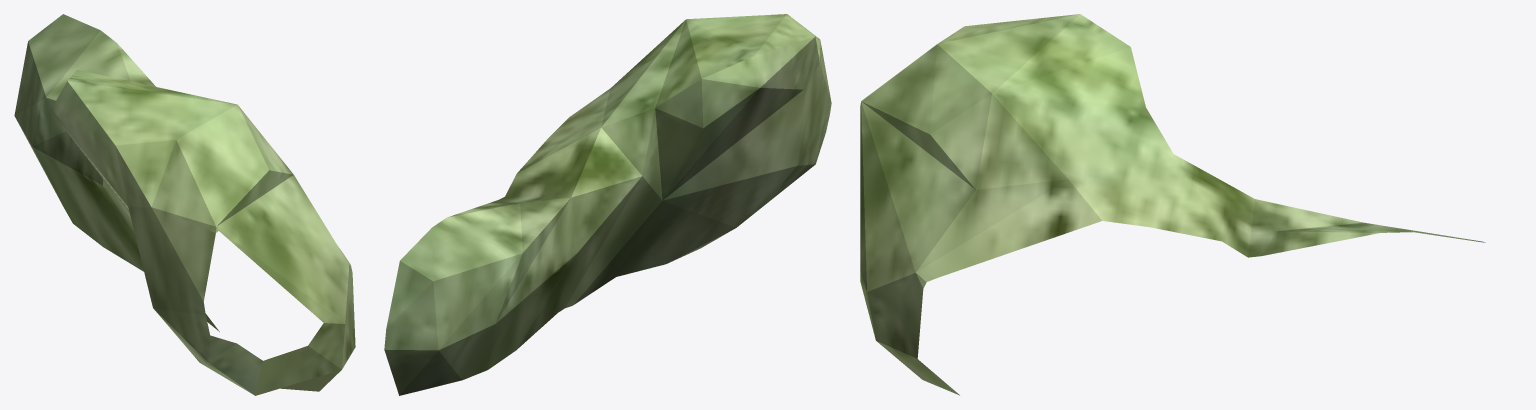
The picture shows the model from 3 angles, left to right: view 1: azimuth 30°, elevation 25°; view 2: azimuth 150°, elevation 25°; view 3: azimuth 270°, elevation 25°; orthographic projection. The views are drawn at different scales.
Bounding box in the file's own units: 0.3739 × 0.4839 × 1.02.
1 material, 1 textured.
